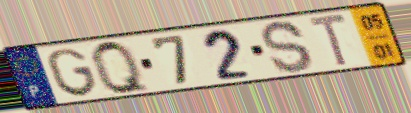2: (202, 25, 260, 85)
7: (150, 33, 191, 87)
G: (45, 46, 101, 98)
Q: (88, 38, 154, 97)
S: (258, 19, 317, 75)
T: (306, 11, 350, 70)
